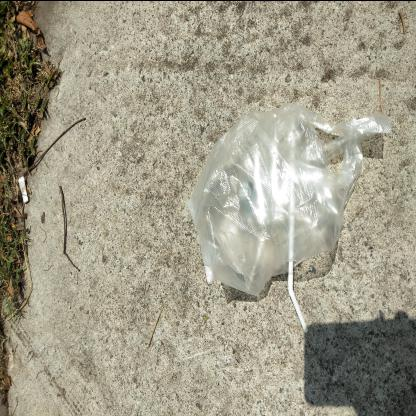plastik: (187, 101, 391, 295)
